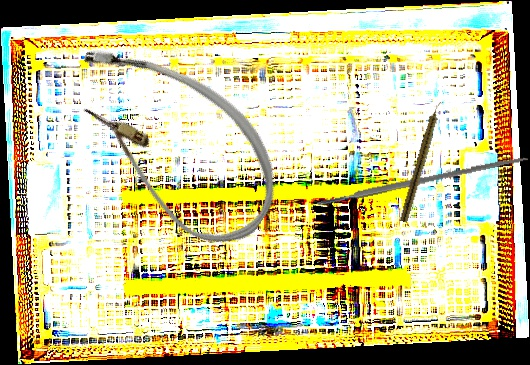Cannula: (33, 19, 308, 266)
Handpiece: (399, 99, 445, 224)
Scalpel Handle: (315, 153, 529, 208)
